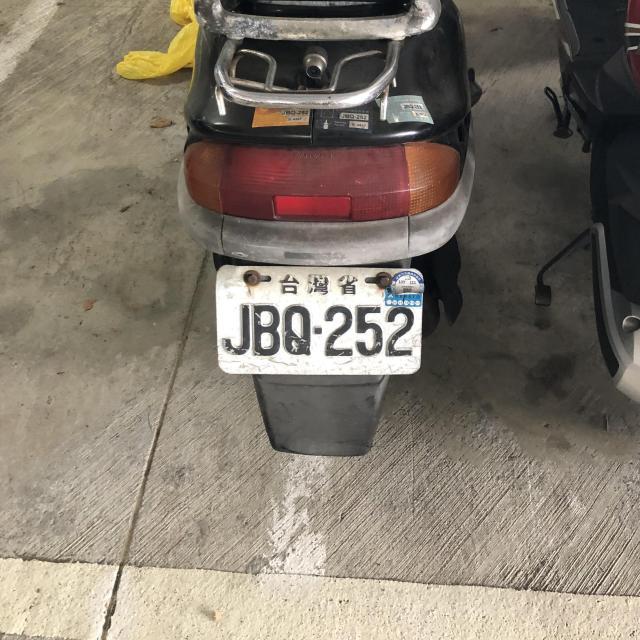W: (212, 262, 425, 378)
